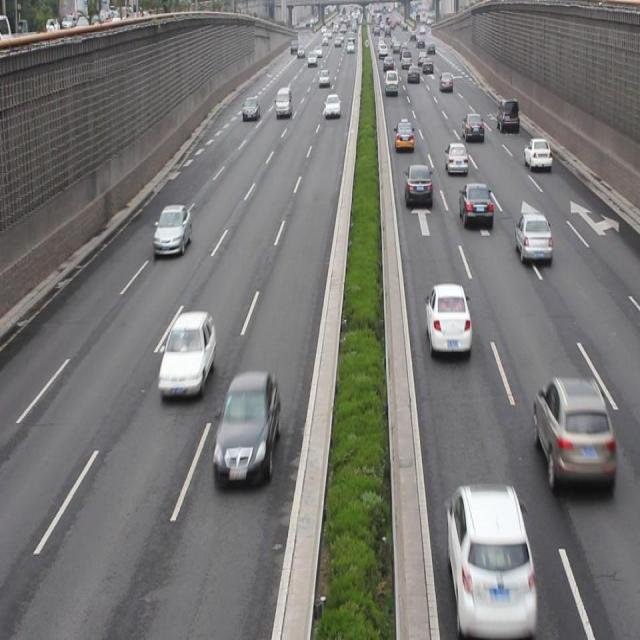car: (445, 482, 534, 621), (532, 376, 614, 490), (212, 369, 279, 488), (159, 311, 215, 397), (425, 282, 470, 353), (153, 201, 191, 256), (514, 210, 551, 264), (458, 180, 492, 230), (404, 160, 432, 207), (522, 135, 551, 170), (496, 96, 520, 134), (444, 140, 468, 176), (462, 111, 484, 142), (394, 118, 414, 152)
